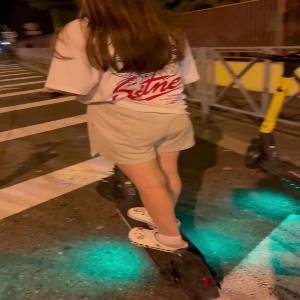human on a scooter: (44, 1, 224, 298)
